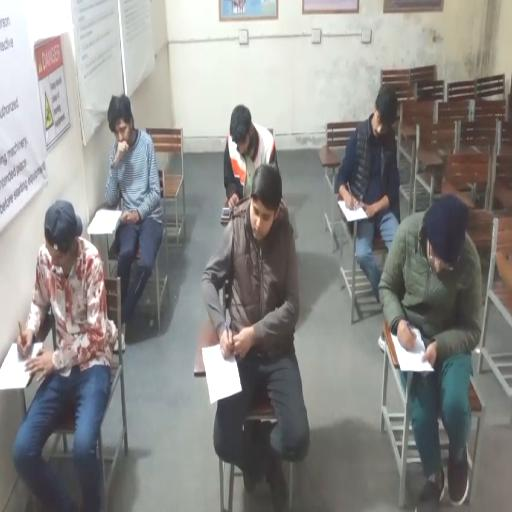paper: (200, 342, 242, 404), (0, 340, 43, 388), (393, 325, 434, 372), (88, 208, 124, 235), (338, 198, 370, 222)
